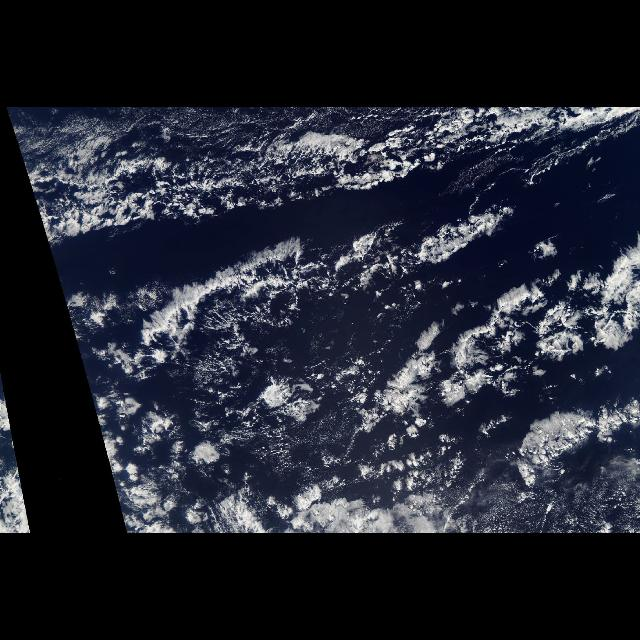Fish: (95, 190, 493, 320)
Flower: (321, 242, 639, 440)
